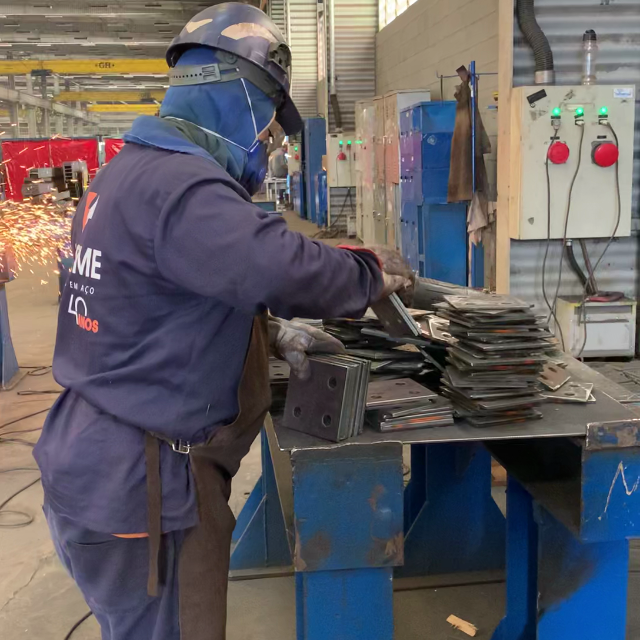glove: (383, 273, 413, 295)
helmet: (164, 1, 310, 136)
person: (28, 1, 417, 637)
